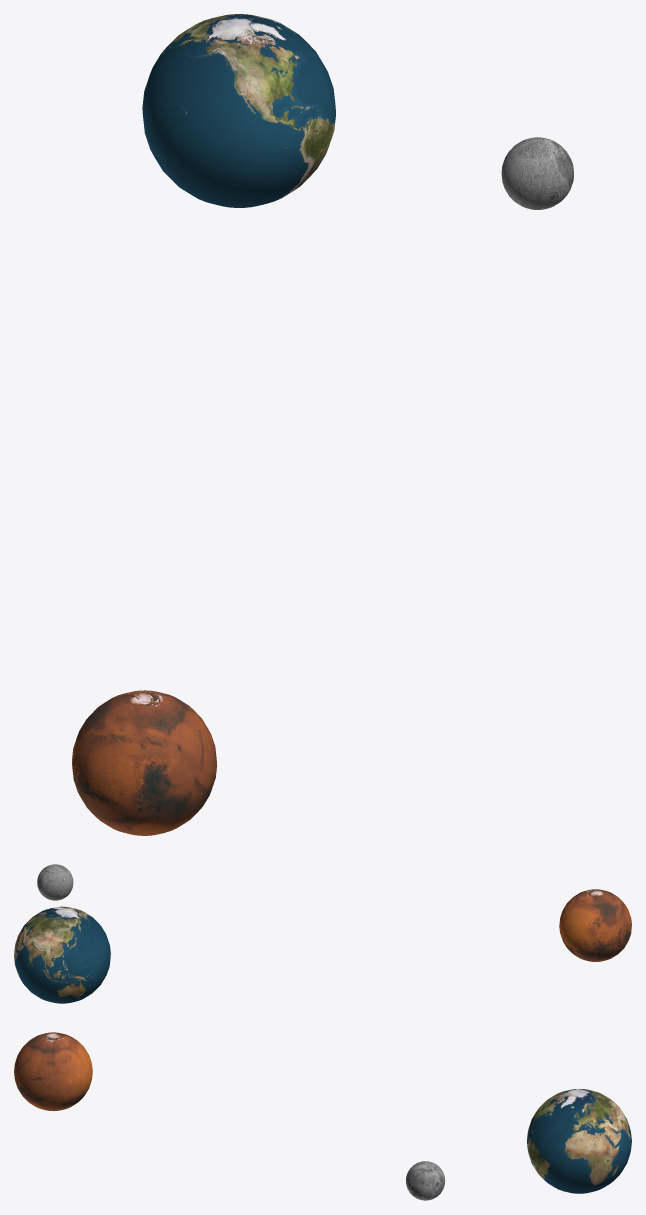
The model's file is universeBackground.glb.
3 renders of one model, top to bottom at view 1: azimuth 30°, elevation 25°; view 2: azimuth 150°, elevation 25°; view 3: azimuth 270°, elevation 25°, orthographic. The views are drawn at different scales.
Visible parts, largest first — view 1: Sphere.002, Sphere, Sphere.001; view 2: Sphere.002, Sphere, Sphere.001; view 3: Sphere.002, Sphere, Sphere.001.
Boxes of the visible parts, x1,y1,x2,y2 form: Sphere.002: (142, 14, 335, 207); Sphere: (72, 690, 216, 835); Sphere.001: (501, 137, 573, 209); Sphere.002: (14, 906, 110, 1003); Sphere: (559, 889, 631, 961); Sphere.001: (37, 864, 73, 900); Sphere.002: (527, 1088, 631, 1193); Sphere: (14, 1032, 92, 1111); Sphere.001: (406, 1161, 445, 1200).
Bounding box in the file's own units: 198 × 70.19 × 235.
3 materials, 3 textured.
